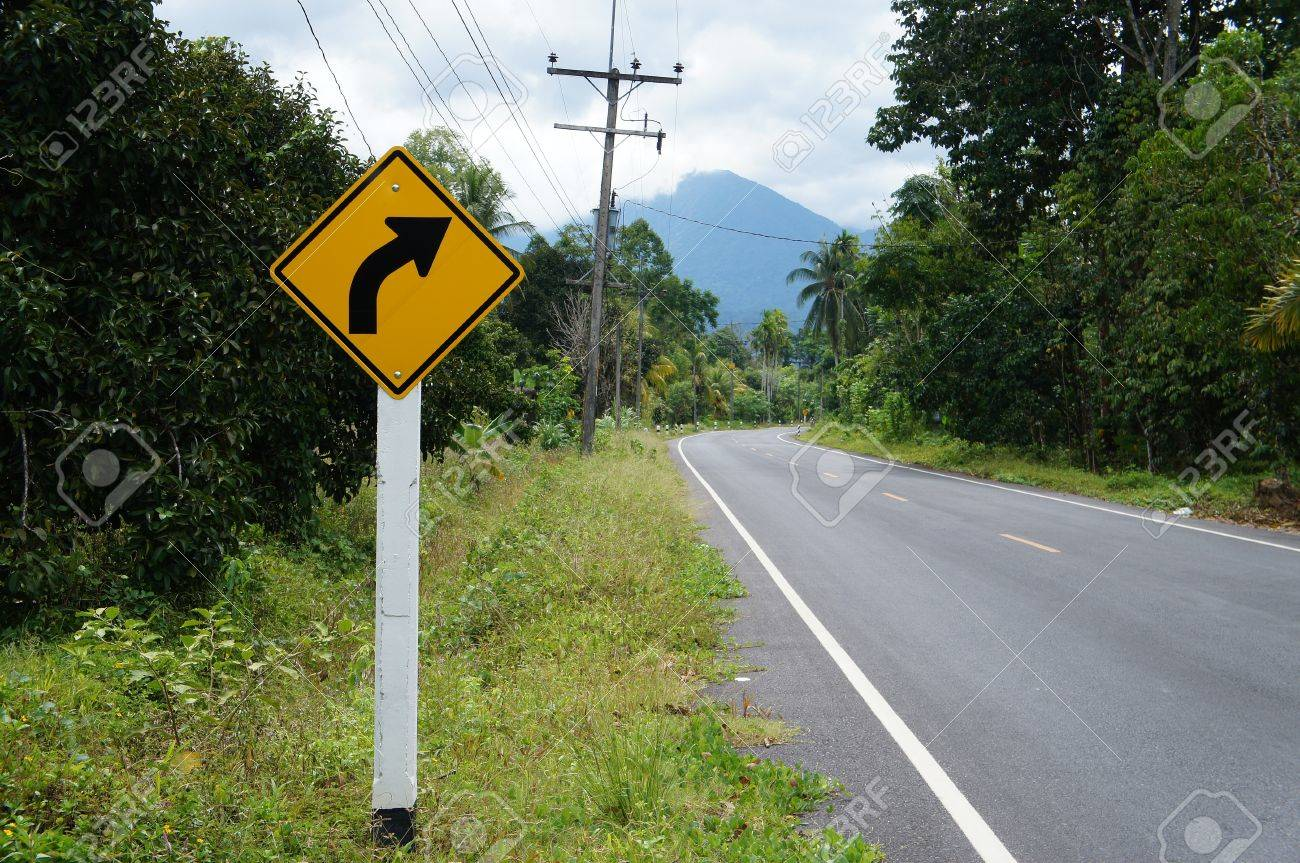right: (268, 146, 529, 401)
